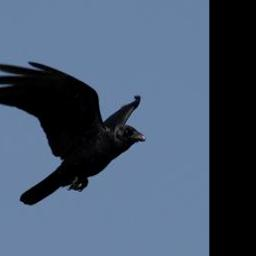Crow: (0, 58, 148, 205)
